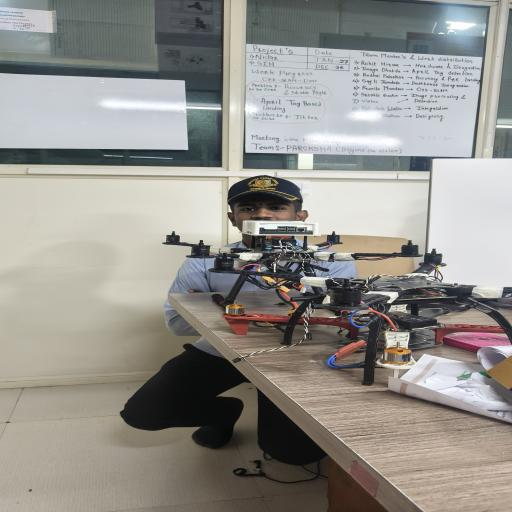survivor: (119, 175, 360, 467)
